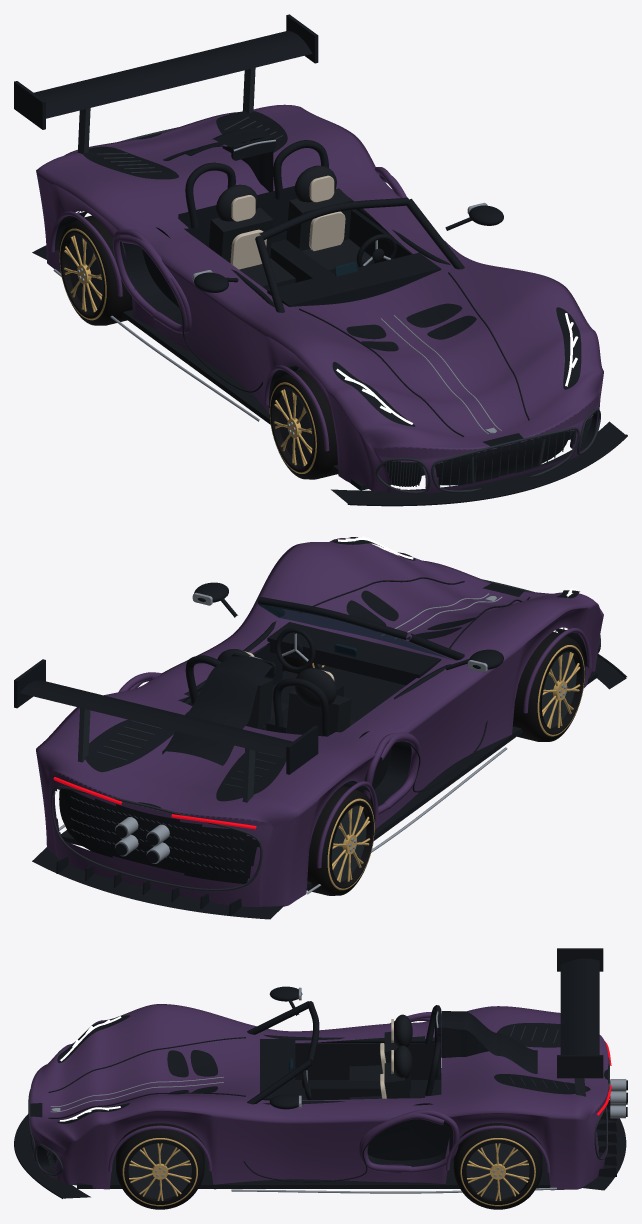
The model's file is venom-f5.glb.
3 views of the same model, one above another, from view 1: azimuth 30°, elevation 25°; view 2: azimuth 150°, elevation 25°; view 3: azimuth 270°, elevation 25° (orthographic). The views are drawn at different scales.
Parts seen in each view (by area): view 1: paint_body, carbon, dark_metal (×3), tire_rubber (×2), interior_seat, interior_ivory, rim_paint (×2), metal, light_front; view 2: paint_body, carbon, tire_rubber (×2), dark_metal (×3), interior_seat, rim_paint (×2), metal, glass, light_rear; view 3: paint_body, carbon, tire_rubber (×2), dark_metal (×3), rim_paint (×2), interior_seat, metal, interior_ivory, light_front.
Part boxes in pixels (box(x1,y1,x2,y2)): paint_body: box(36, 104, 603, 493); carbon: box(14, 14, 627, 506); dark_metal (×3): box(68, 67, 600, 493); tire_rubber (×2): box(59, 215, 337, 479); interior_seat: box(208, 165, 374, 289); interior_ivory: box(230, 175, 345, 269); rim_paint (×2): box(59, 228, 316, 473); metal: box(53, 139, 501, 434); light_front: box(336, 313, 578, 424); paint_body: box(36, 538, 603, 906); carbon: box(14, 537, 626, 919); tire_rubber (×2): box(307, 632, 585, 895); dark_metal (×3): box(51, 579, 600, 891); interior_seat: box(217, 649, 356, 736); rim_paint (×2): box(327, 645, 584, 890); metal: box(59, 592, 507, 894); glass: box(257, 604, 451, 659); light_rear: box(53, 777, 256, 829); paint_body: box(29, 1004, 608, 1190); carbon: box(14, 948, 627, 1198); tire_rubber (×2): box(116, 1123, 542, 1209); dark_metal (×3): box(28, 1025, 609, 1198); rim_paint (×2): box(122, 1138, 535, 1206); interior_seat: box(349, 1014, 412, 1099); metal: box(50, 987, 626, 1193); interior_ivory: box(380, 1019, 393, 1098); light_front: box(59, 1016, 121, 1121).
Size of the model in its own units: 2.32 by 1.43 by 5.05.
